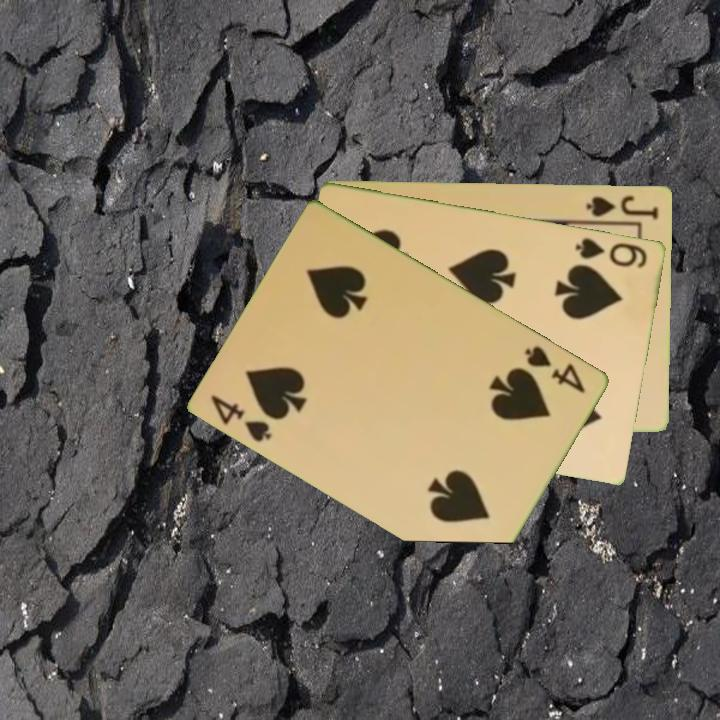4s: (207, 391, 276, 445), (521, 342, 589, 396)
6s: (572, 233, 651, 271)
Js: (583, 191, 662, 222)
